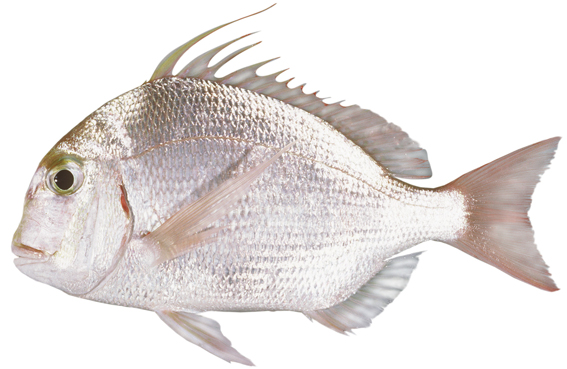fish: (12, 2, 559, 369)
